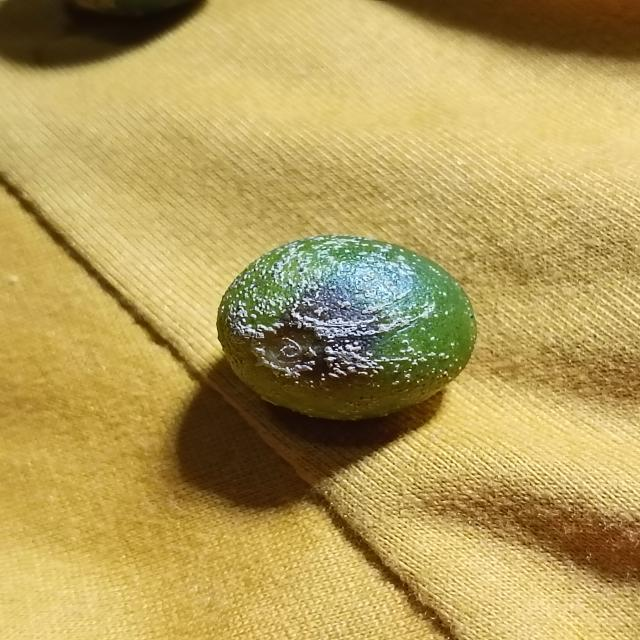scab: (220, 236, 472, 427)
